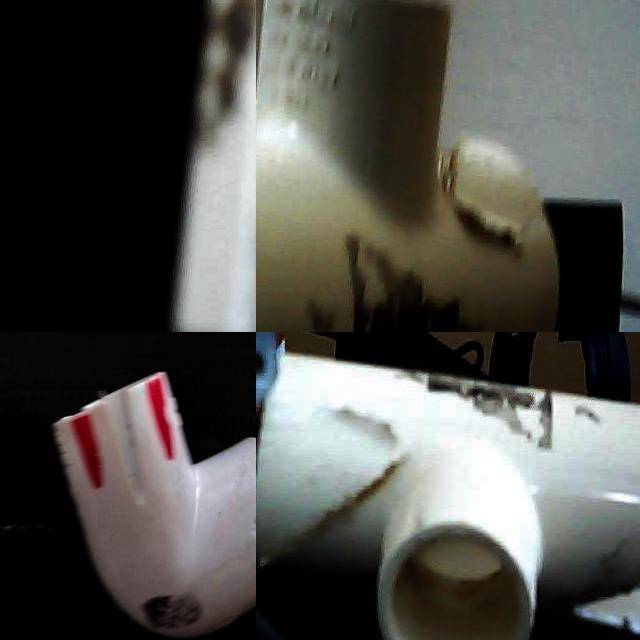Defective: (256, 459, 483, 599), (315, 220, 469, 332), (425, 132, 529, 250), (410, 378, 584, 448), (199, 0, 256, 164), (545, 561, 640, 640), (187, 332, 237, 392), (69, 429, 130, 476), (49, 342, 110, 378)
L Joint: (32, 332, 235, 506)
T Joint: (256, 345, 640, 640)
